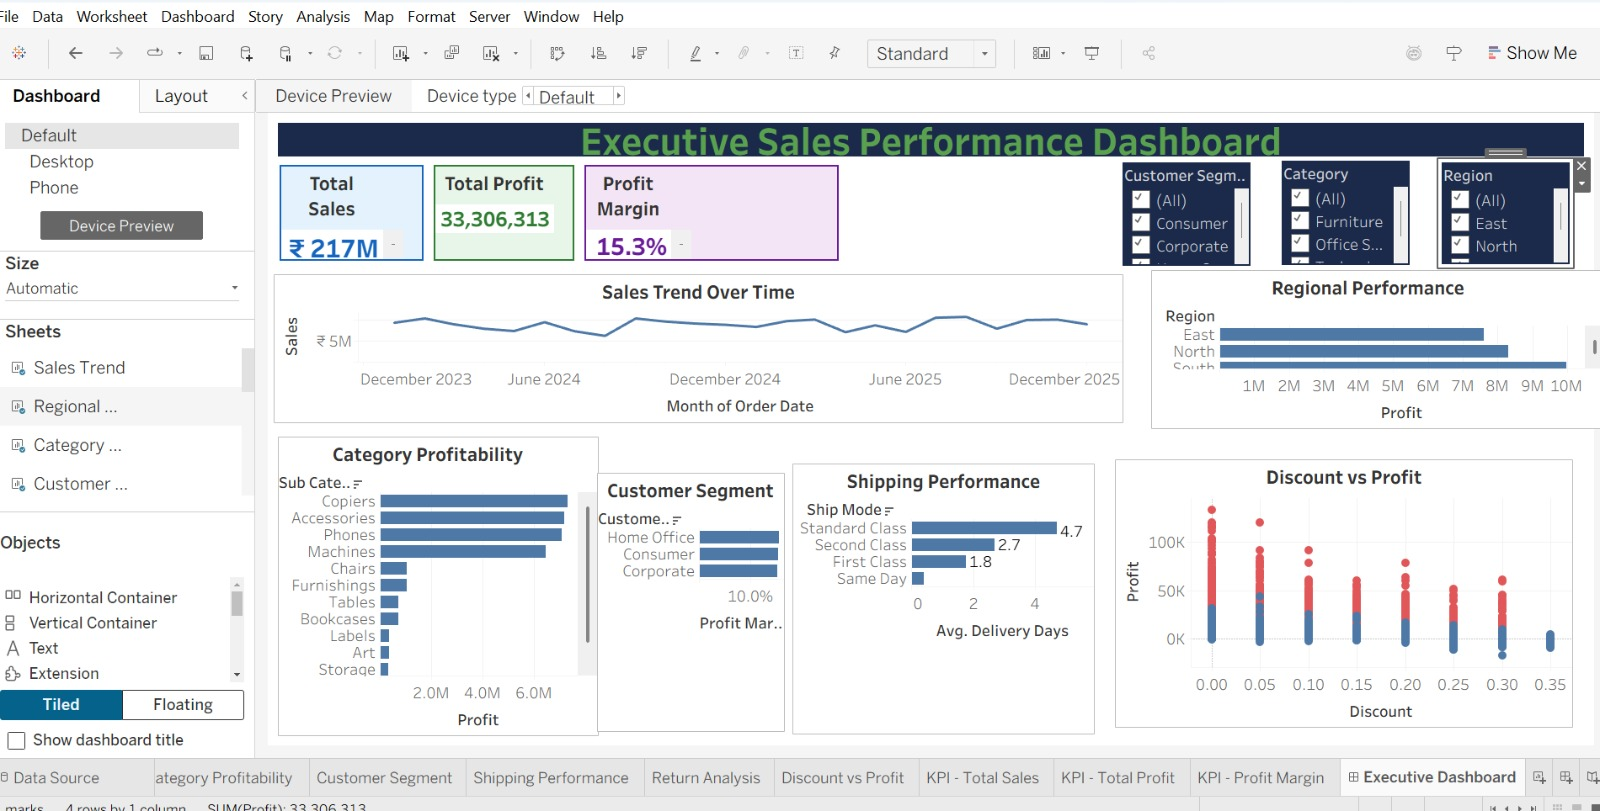

The dashboard page shown, as its layout file describes it:
{"tool":"tableau","page":{"name":"Executive Dashboard","canvas":[1000,1000],"units":"permille","ordinal":0},"visuals":[{"type":"title","box":[5.1,10.6,989.8,63.8]},{"type":"filter","title":"Category Profitability","param":"[federated.1fvjzx91kkku3y11qjkhv1xtdsno].[none:category:nk]","box":[761.9,70.5,101.6,175.5]},{"type":"filter","title":"Customer Segment","param":"[federated.1fvjzx91kkku3y11qjkhv1xtdsno].[none:customer_segment:nk]","box":[641.9,73.1,101.6,174.2]},{"type":"filter","title":"Regional Performance","param":"[federated.1fvjzx91kkku3y11qjkhv1xtdsno].[none:region:nk]","box":[882.5,73.1,101.6,171.5]},{"type":"worksheet","title":"KPI - Total Sales","mark":"Automatic","box":[5.1,74.5,116.2,167.6]},{"type":"worksheet","title":"KPI - Total Profit","mark":"Automatic","box":[121.3,74.5,113.7,167.6]},{"type":"worksheet","title":"KPI - Profit Margin","mark":"Automatic","box":[234.9,74.5,199.4,167.6]},{"type":"worksheet","title":"Sales Trend","mark":"Area","rows":["sales"],"cols":["order_date"],"box":[2,250,645.5,246]},{"type":"worksheet","title":"Category Profitability","mark":"Bar","rows":["sub_category"],"cols":["profit"],"box":[5.3,506.7,247.2,484]},{"type":"worksheet","title":"Discount vs Profit","mark":"Circle","rows":["profit"],"cols":["discount"],"box":[636.2,542.5,350.6,434.8]},{"type":"worksheet","title":"Shipping Performance","mark":"Automatic","rows":["ship_mode"],"cols":["delivery_days"],"box":[393,549.2,233.3,438.8]},{"type":"worksheet","title":"Customer Segment","mark":"Bar","rows":["customer_segment"],"cols":["Calculation_3604491425931264"],"box":[245.9,563.8,146.5,420.2]}]}

Visuals, with their boxes on the dashboard's canvas, which has no fixed pixel size, in thousandths of its width and height (x1, y1, x2, y2). These are canvas units, not pixel positions in the 1600x811 screenshot, which may show the page scaled, cropped or inside an application window:
title: x1=5, y1=11, x2=995, y2=74
"Category Profitability" filter: x1=762, y1=70, x2=864, y2=246
"Customer Segment" filter: x1=642, y1=73, x2=744, y2=247
"Regional Performance" filter: x1=882, y1=73, x2=984, y2=245
"KPI - Total Sales" worksheet: x1=5, y1=74, x2=121, y2=242
"KPI - Total Profit" worksheet: x1=121, y1=74, x2=235, y2=242
"KPI - Profit Margin" worksheet: x1=235, y1=74, x2=434, y2=242
"Sales Trend" worksheet (Area marks): x1=2, y1=250, x2=648, y2=496
"Category Profitability" worksheet (Bar marks): x1=5, y1=507, x2=252, y2=991
"Discount vs Profit" worksheet (Circle marks): x1=636, y1=542, x2=987, y2=977
"Shipping Performance" worksheet: x1=393, y1=549, x2=626, y2=988
"Customer Segment" worksheet (Bar marks): x1=246, y1=564, x2=392, y2=984
